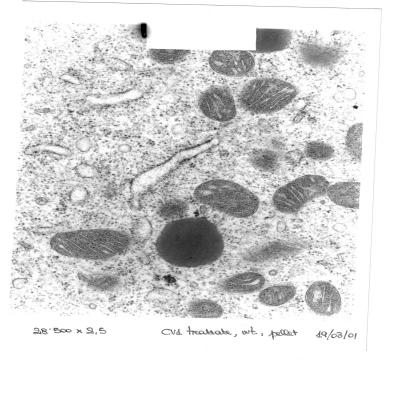mitochondria: (192, 178, 260, 219), (48, 228, 132, 260), (271, 173, 330, 214), (238, 77, 298, 115), (198, 84, 238, 123), (303, 279, 343, 316), (211, 50, 256, 77), (222, 272, 264, 294), (257, 286, 299, 306), (330, 180, 359, 208), (148, 49, 193, 66), (305, 141, 336, 161), (191, 299, 223, 317)
